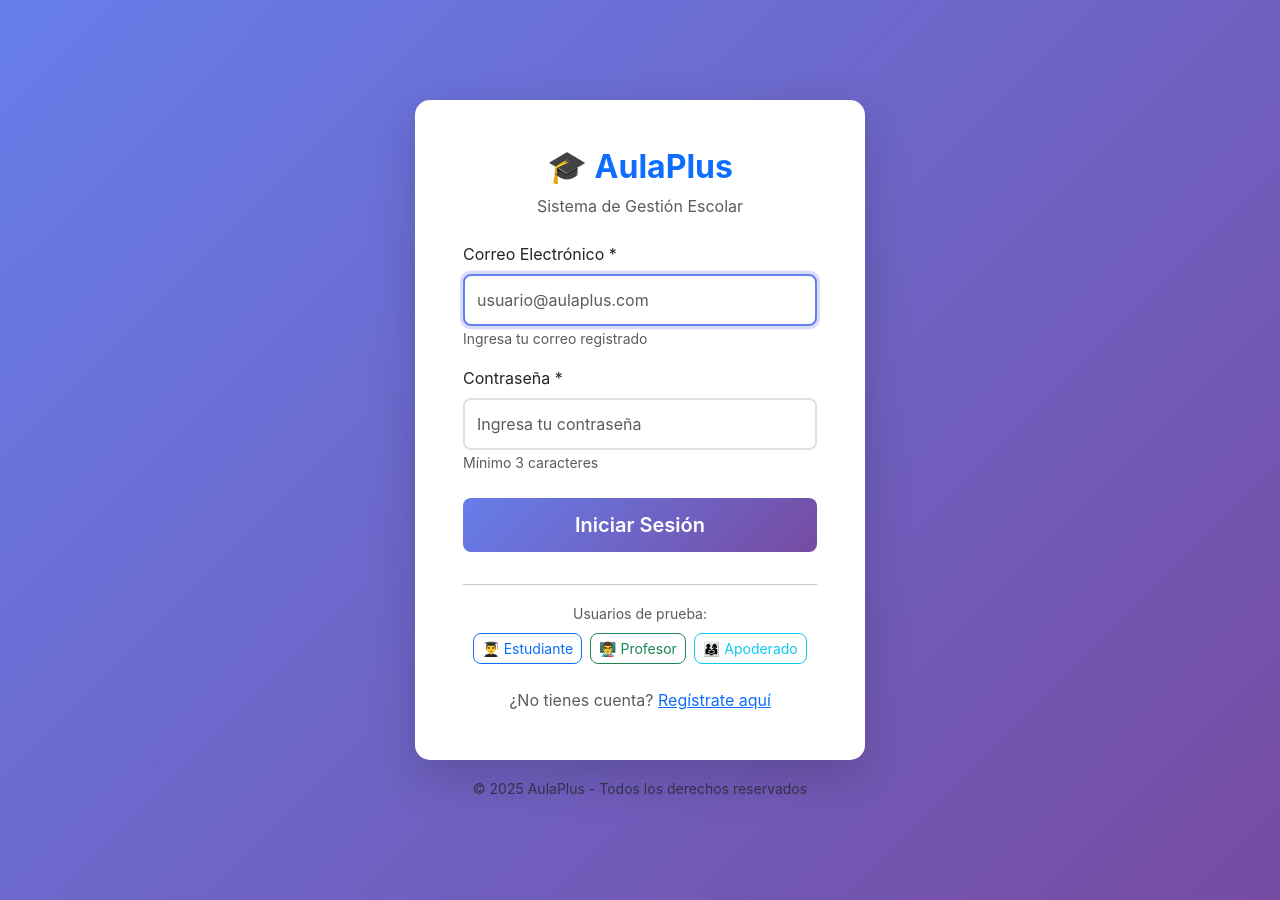
Test: Login Component - Pruebas Unitarias › deshabilita el botón submit mientras carga
Type "test@test.com" into the field named "Correo Electrónico". click: (640, 300)
box: [463,274,817,326]
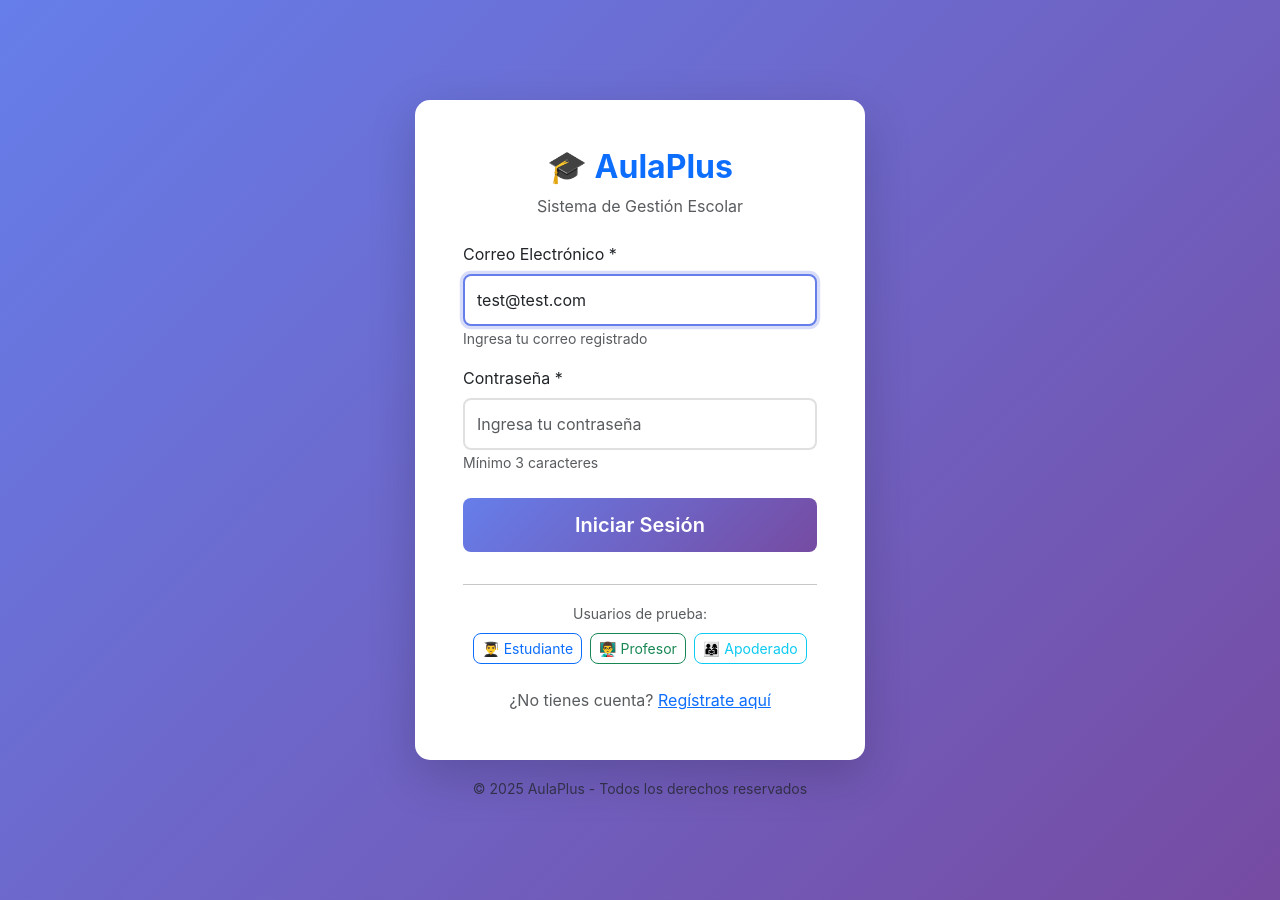
Type "12345" into the password field labelled "Ingresa tu contraseña". click: (640, 424)
box: [463,398,817,450]
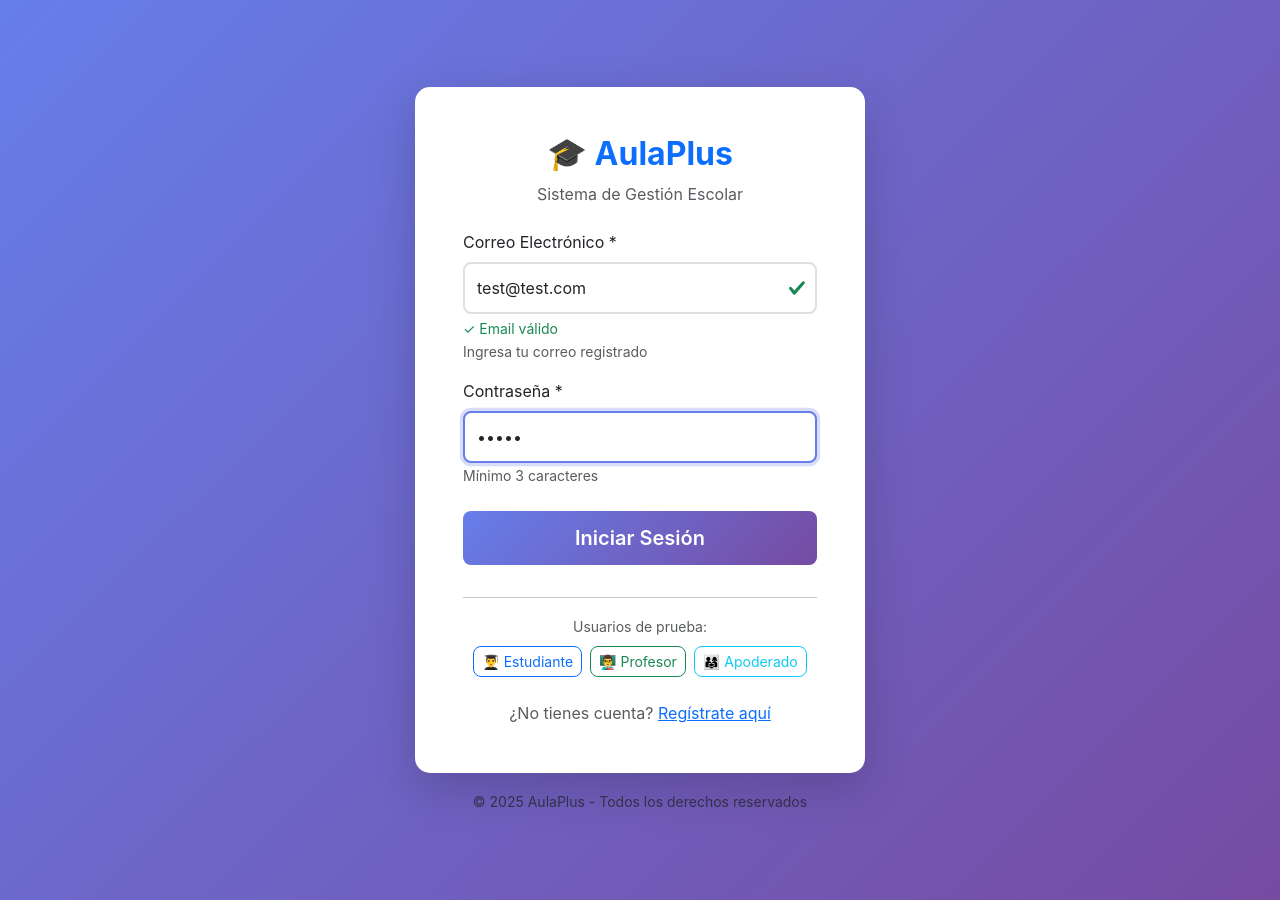
Click the button "Iniciar Sesión". click: (640, 538)
box: [463,511,817,565]
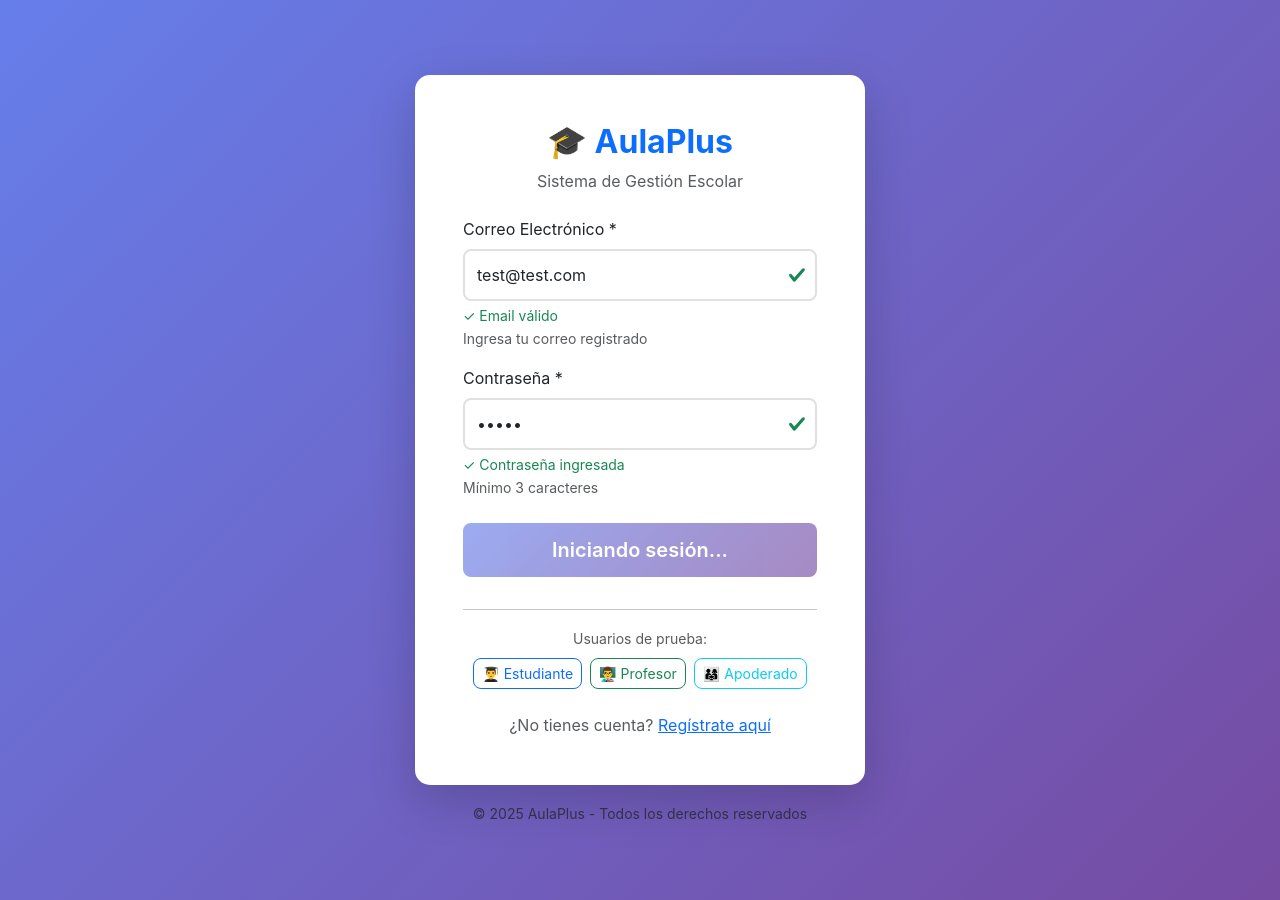
expect the button named "Iniciar Sesión" is disabled: met, box [463,523,817,577]
